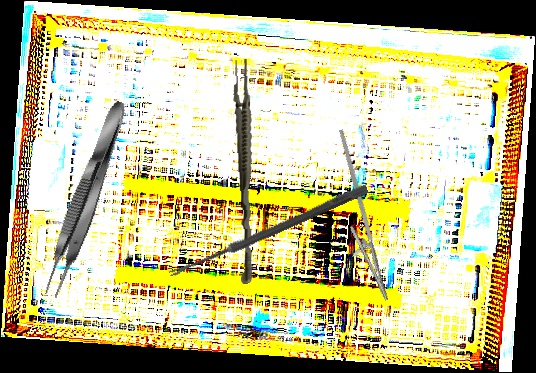Needle Holder: (306, 129, 409, 306)
Surgical Spoon: (168, 182, 369, 281)
Tissue Forceps: (36, 97, 136, 301), (229, 59, 261, 284)
